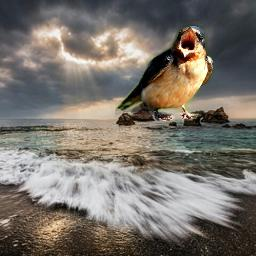Swallow: (115, 25, 214, 121)
